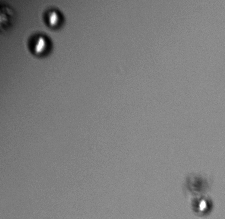Dead Cell: (1, 3, 16, 34), (187, 172, 208, 194)
Living Cell: (28, 31, 53, 58), (42, 6, 65, 30), (194, 195, 212, 214)
